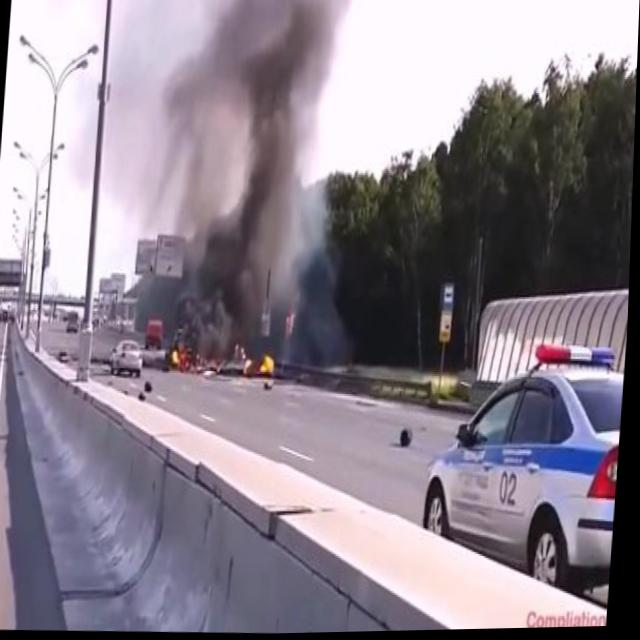fire: (171, 344, 199, 371), (236, 343, 256, 379), (258, 351, 282, 377)
